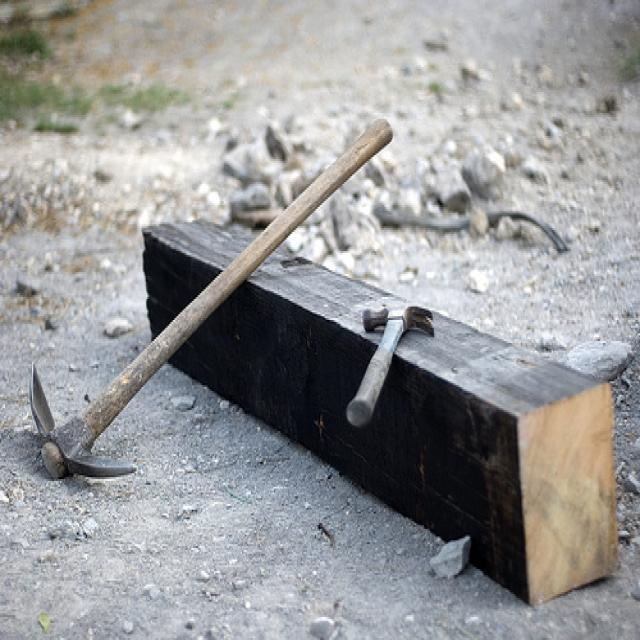hammer: (330, 274, 448, 451)
